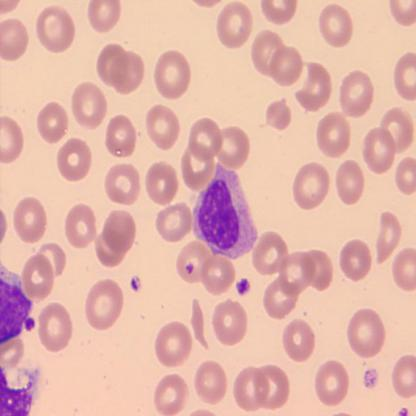Metamyelocyte: (191, 161, 261, 260)
